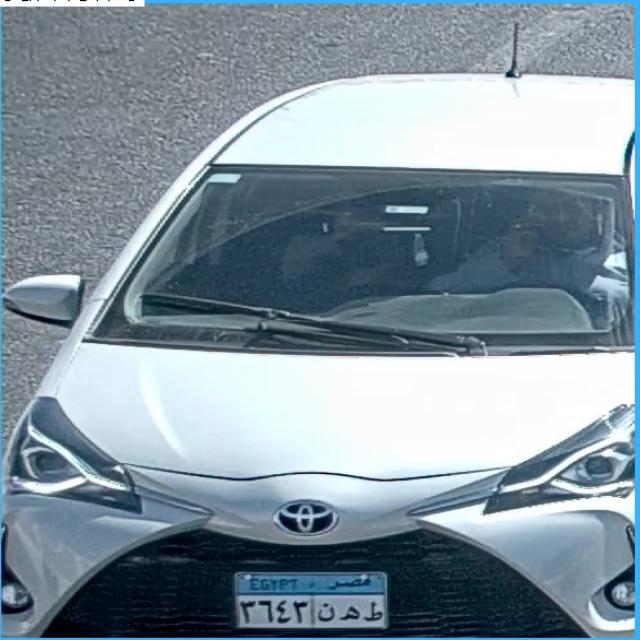windshield: (103, 174, 627, 347)
